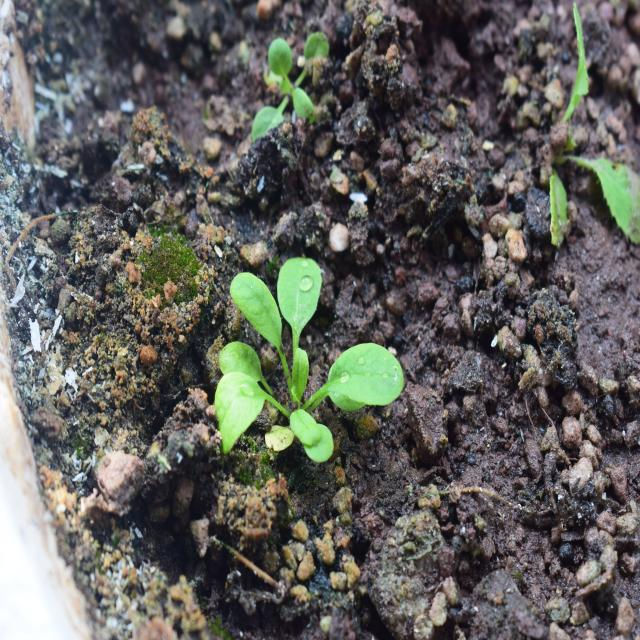Shepherd_Purse: (217, 226, 397, 482)
